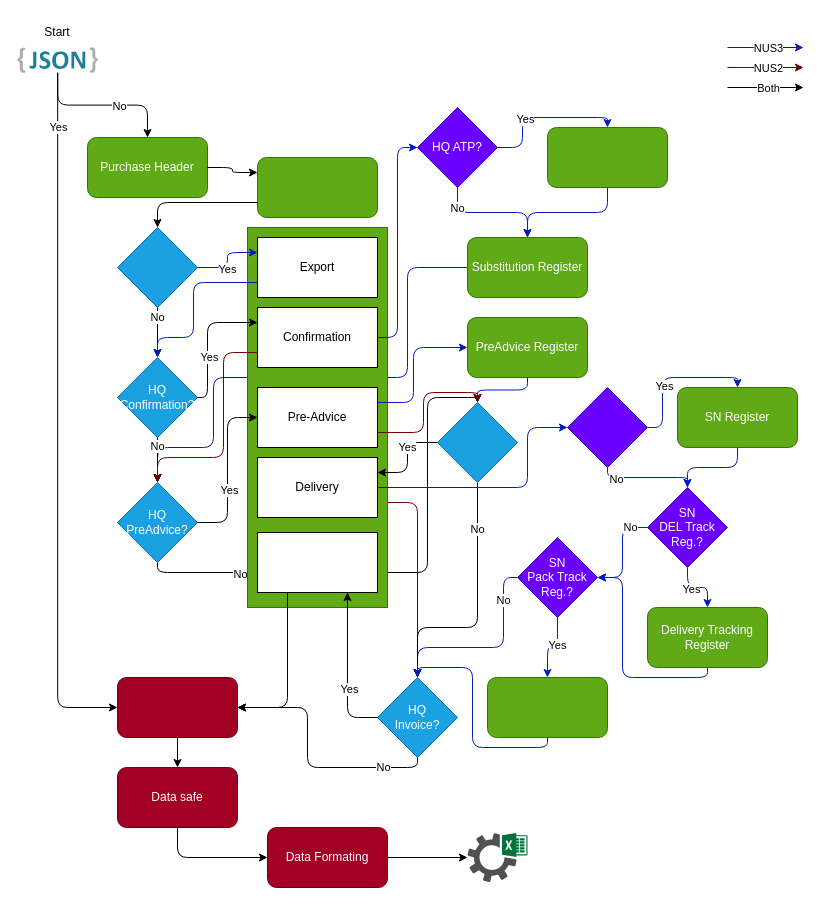
Some shapes in this 829 by 905 pixel diagram are drawn without their labels. The centre of each missing label's shape, as x and y in pixels:
ATP Register: [607,157]
Data Generate: [177,707]
HQ Delivery?: [477,442]
HQ Export?: [157,267]
Invoice: [317,562]
Package Tracking Register: [547,707]
Purchase Lines: [317,187]
SN Register?: [607,427]
